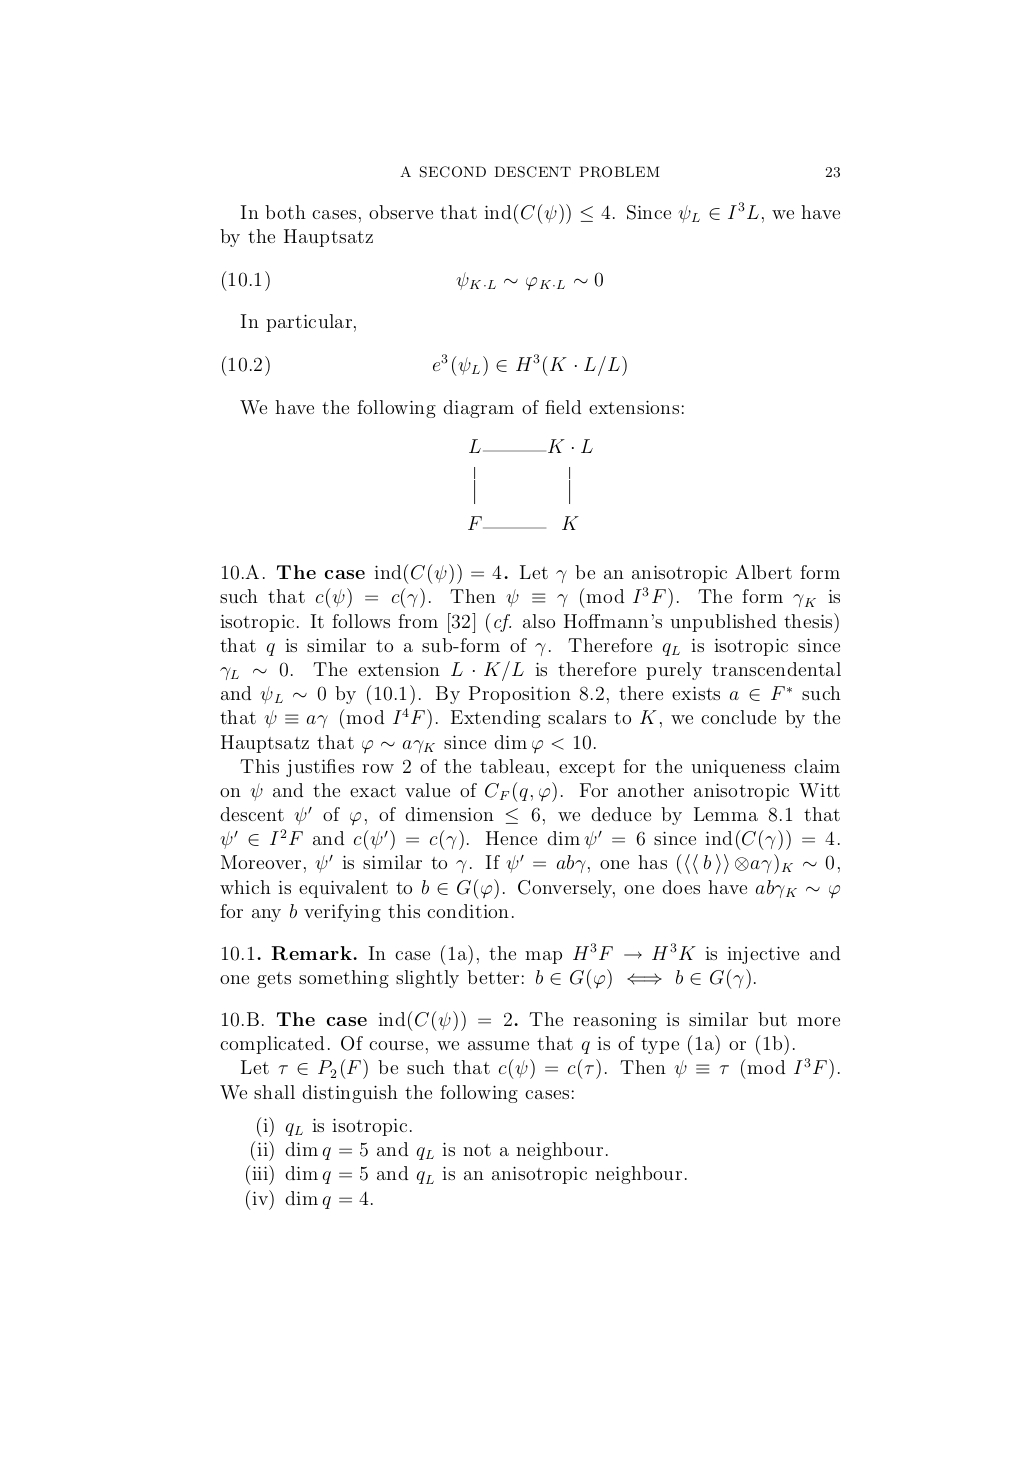figure: (468, 439, 592, 529)
formula: (222, 352, 626, 376), (222, 270, 603, 291)
